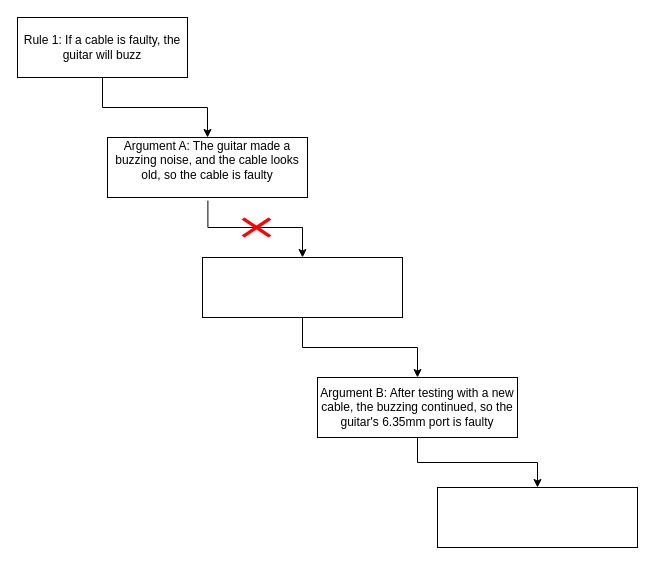
Some shapes in this 655 by 565 pixel diagram are drawn without their labels. The centre of each missing label's shape, as x and y in pixels:
"Final Conclusion: The buzzing noise is caused by a faulty guitar 6.35mm port" goes at (537,517).
"Rule 2: If the guitar's 6.35mm port is faulty. It will also make a buzzing noise" goes at (302,287).
